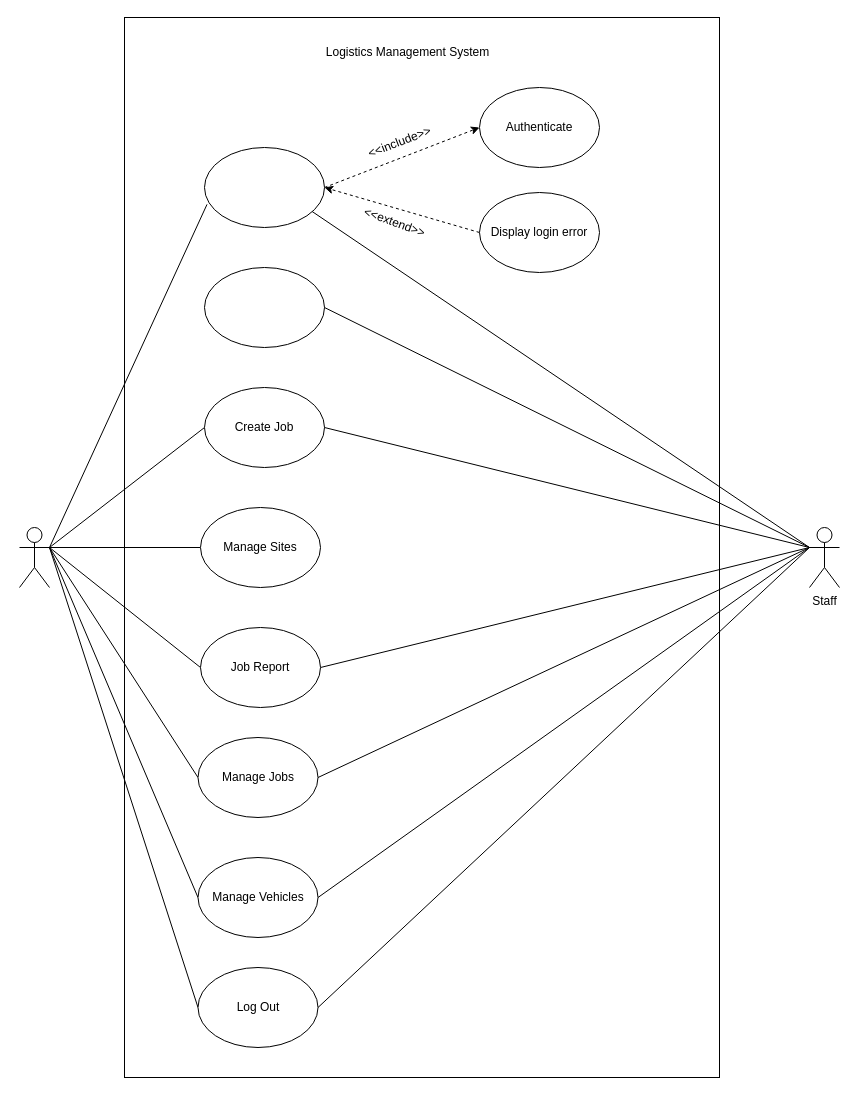
Some shapes in this 857 by 1095 pixel diagram are drawn without their labels. Each missing label, with the box of its shape:
Admin: (18, 526, 50, 588)
Log In: (204, 146, 324, 228)
Register: (204, 266, 324, 348)
